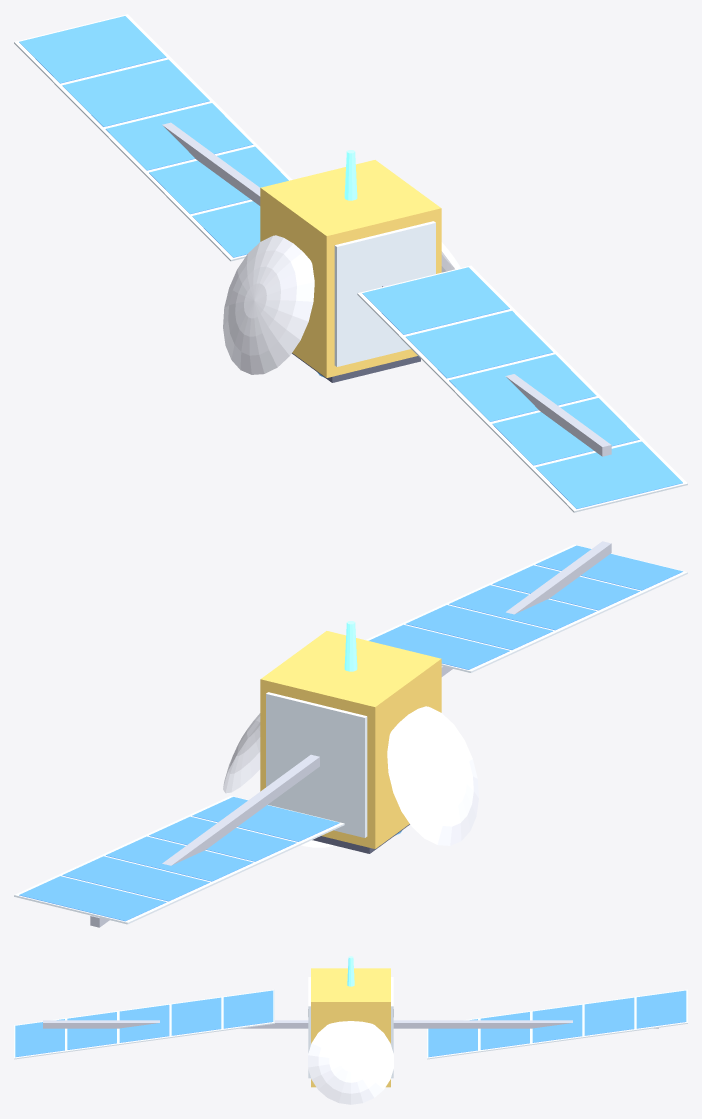
Rendered from geo_comm.glb.
3 views of the same model, one above another, from view 1: azimuth 30°, elevation 25°; view 2: azimuth 150°, elevation 25°; view 3: azimuth 270°, elevation 25° (orthographic). The views are drawn at different scales.
Parts seen in each view (by area): view 1: Spacecraft; view 2: Spacecraft; view 3: Spacecraft.
Part boxes in pixels (<box>): Spacecraft: <box>14,14,687,512</box>; Spacecraft: <box>14,541,687,927</box>; Spacecraft: <box>14,956,687,1104</box>.
Bounding box in the file's own units: 8.47 × 7.78 × 37.21.
